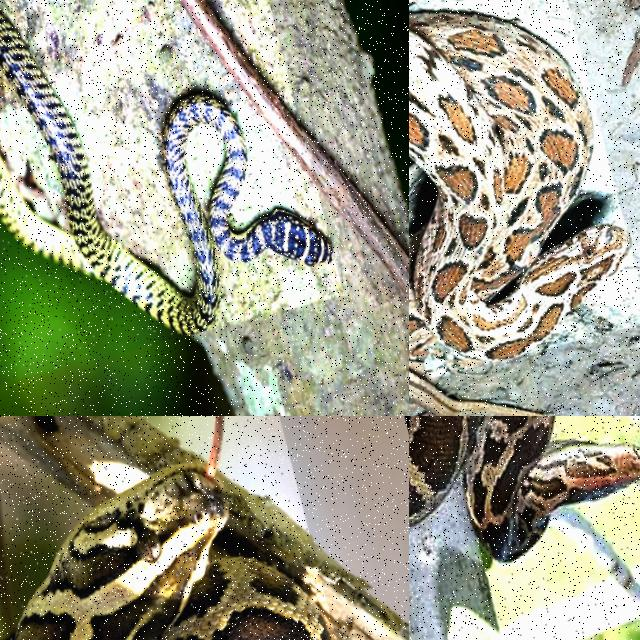Chrysopelea ornata: (0, 9, 332, 332)
Daboia siamensis: (409, 12, 630, 358)
Python bivittatus: (16, 416, 331, 639), (409, 416, 639, 560)
snake: (0, 9, 332, 332), (409, 12, 630, 358), (16, 416, 331, 639), (409, 416, 639, 560)
